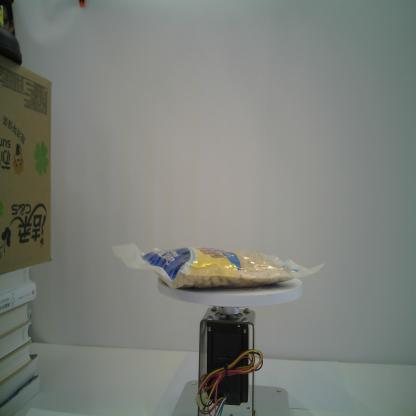Dried Fruit: (112, 244, 325, 290)
